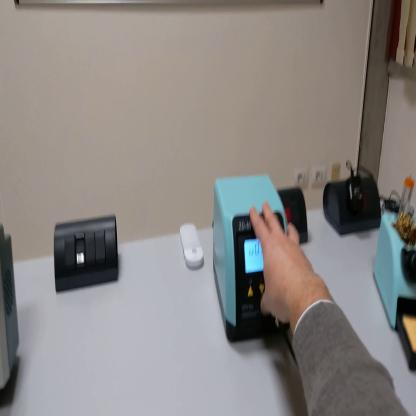hand: (251, 201, 322, 331)
oscilloscope: (2, 225, 20, 390)
socket: (323, 176, 383, 235), (279, 190, 308, 246)
welder base: (372, 210, 416, 375)
welder station: (213, 180, 291, 348)
